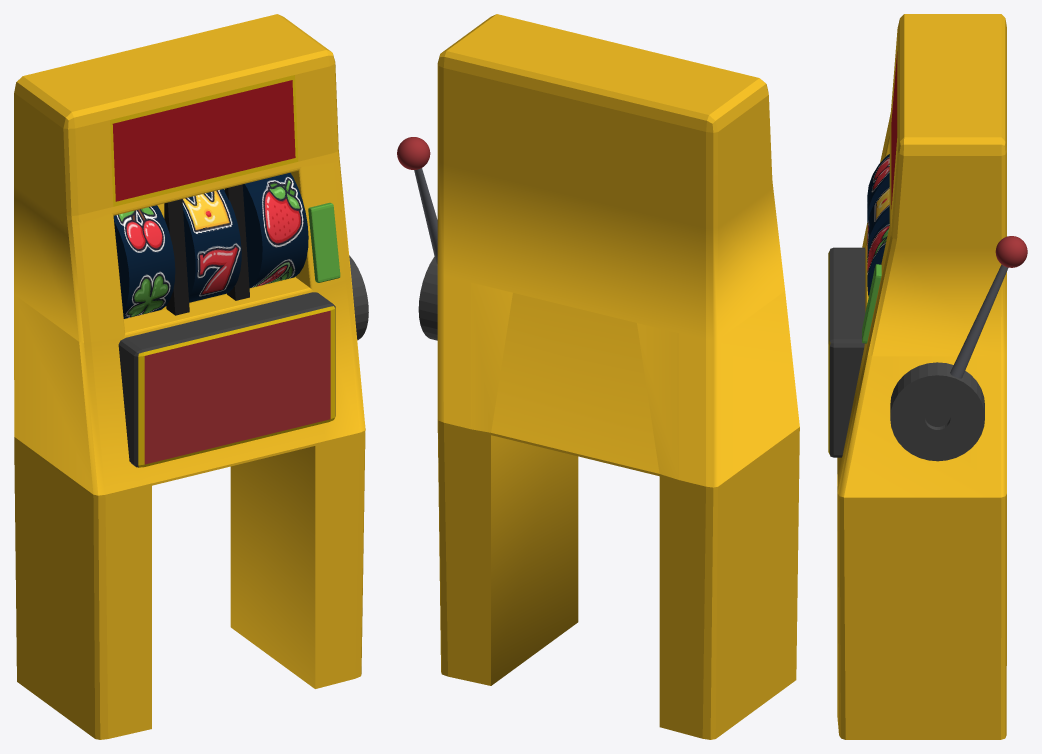
The model's file is Branima Ultimativni Mesh V1.fbx.
The picture shows the model from 3 angles, left to right: view 1: azimuth 30°, elevation 25°; view 2: azimuth 150°, elevation 25°; view 3: azimuth 270°, elevation 25°; orthographic projection. The views are drawn at different scales.
Parts seen in each view (by area): view 1: slotmachinegate, gate, Cylinder.001, Cylinder.002, Cylinder, handle; view 2: slotmachinegate, gate, handle; view 3: slotmachinegate, gate, handle, Cylinder, Cylinder.001, Cylinder.002.
Boxes of the visible parts, left/top/right/bottom form: slotmachinegate: left=14, top=14, right=365, bottom=497; gate: left=14, top=432, right=365, bottom=739; Cylinder.001: left=242, top=172, right=308, bottom=287; Cylinder.002: left=113, top=205, right=175, bottom=318; Cylinder: left=182, top=189, right=241, bottom=302; handle: left=349, top=255, right=368, bottom=340; slotmachinegate: left=437, top=14, right=799, bottom=489; gate: left=437, top=421, right=799, bottom=739; handle: left=397, top=137, right=437, bottom=340; slotmachinegate: left=828, top=14, right=1006, bottom=499; gate: left=837, top=488, right=1006, bottom=739; handle: left=890, top=236, right=1027, bottom=461; Cylinder: left=867, top=186, right=889, bottom=257; Cylinder.001: left=867, top=218, right=889, bottom=296; Cylinder.002: left=867, top=154, right=889, bottom=222.
Bounding box in the file's own units: 1.5 × 2.84 × 0.8555.
14 materials, 3 textured.
